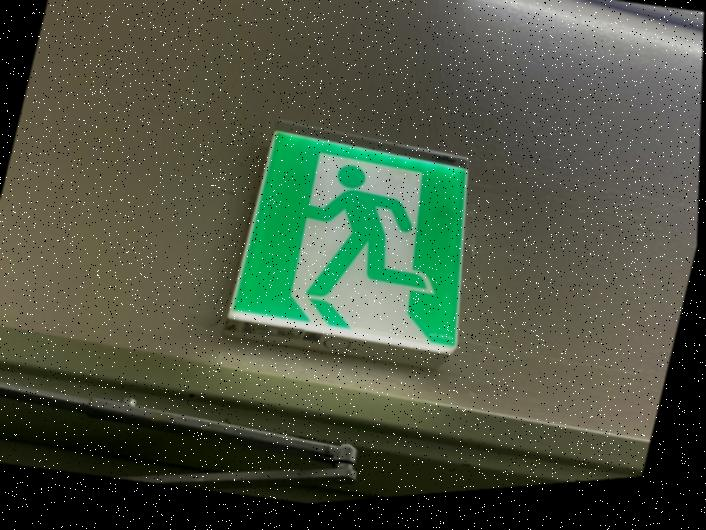emergency_exit: (225, 126, 470, 356)
